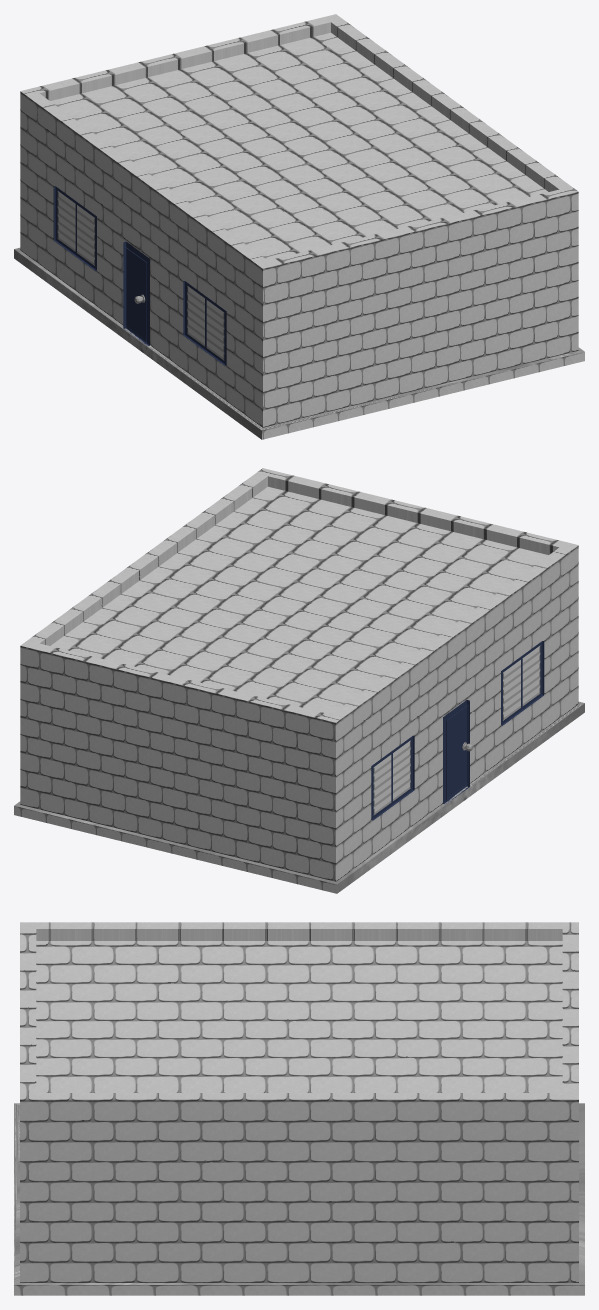
File: building6.fbx
The picture shows the model from 3 angles, top to bottom: view 1: azimuth 30°, elevation 25°; view 2: azimuth 150°, elevation 25°; view 3: azimuth 270°, elevation 25°; orthographic projection. The views are drawn at different scales.
Parts seen in each view (by area): view 1: building6, Window.019, Window.018, Door corners.009; view 2: building6, Window.019, Window.018, Door corners.009; view 3: building6.
Part boxes in pixels (x1,y1,x2,y2): building6: (14,14,584,439); Window.019: (53,186,96,271); Window.018: (183,281,226,365); Door corners.009: (123,241,149,345); building6: (14,468,584,893); Window.019: (371,735,414,820); Window.018: (501,641,544,725); Door corners.009: (443,700,469,803); building6: (14,922,584,1295).
Size of the model in its own units: 14.68 by 7.16 by 19.11.
Materials: 5 (3 with a texture image).
